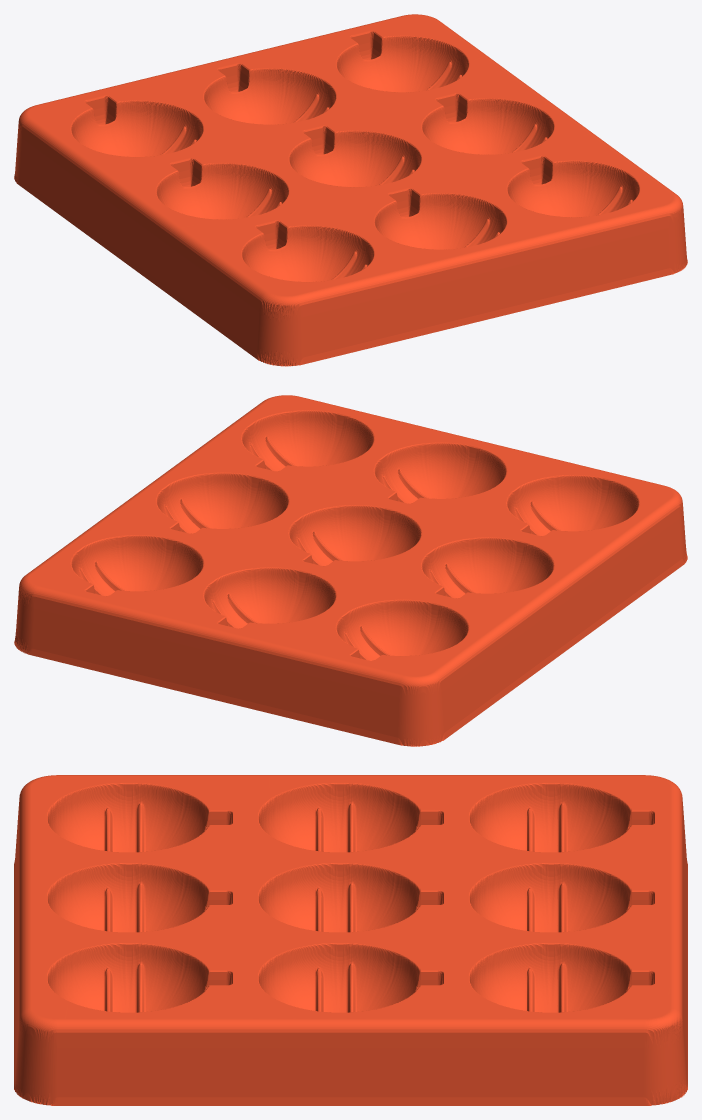
Rendered from mold.glb.
3 renders of one model, top to bottom at view 1: azimuth 30°, elevation 25°; view 2: azimuth 150°, elevation 25°; view 3: azimuth 270°, elevation 25°, orthographic. The views are drawn at different scales.
Visible parts, largest first — view 1: geometry_0; view 2: geometry_0; view 3: geometry_0.
Boxes of the visible parts, x1=… form: geometry_0: x1=14, y1=14, x2=687, y2=366; geometry_0: x1=14, y1=395, x2=687, y2=746; geometry_0: x1=14, y1=775, x2=687, y2=1105.
Bounding box in the file's own units: 0.1267 × 0.0182 × 0.1402.
